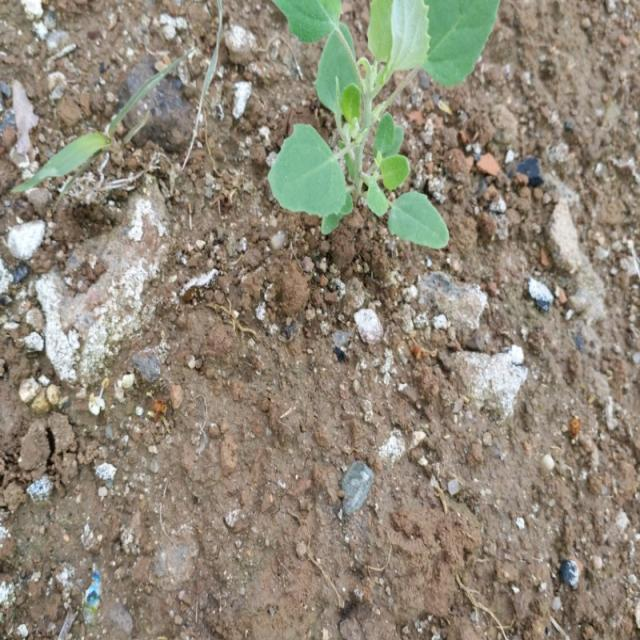ca: (269, 0, 500, 251)
